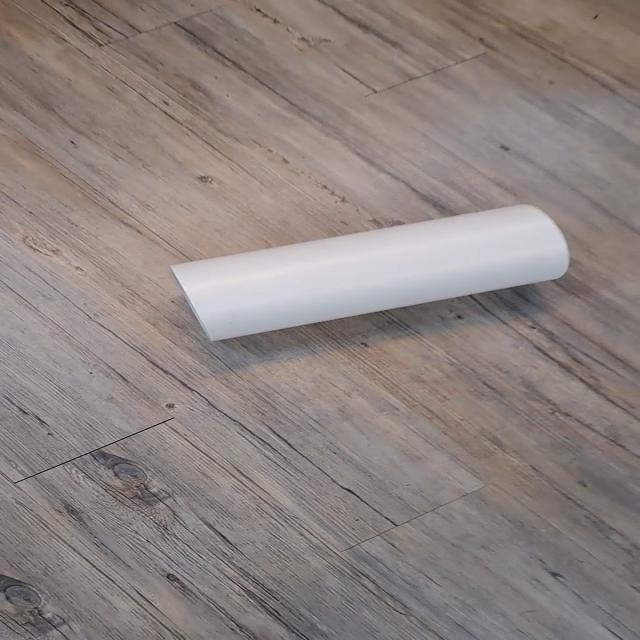CORAL: (140, 192, 592, 357)
